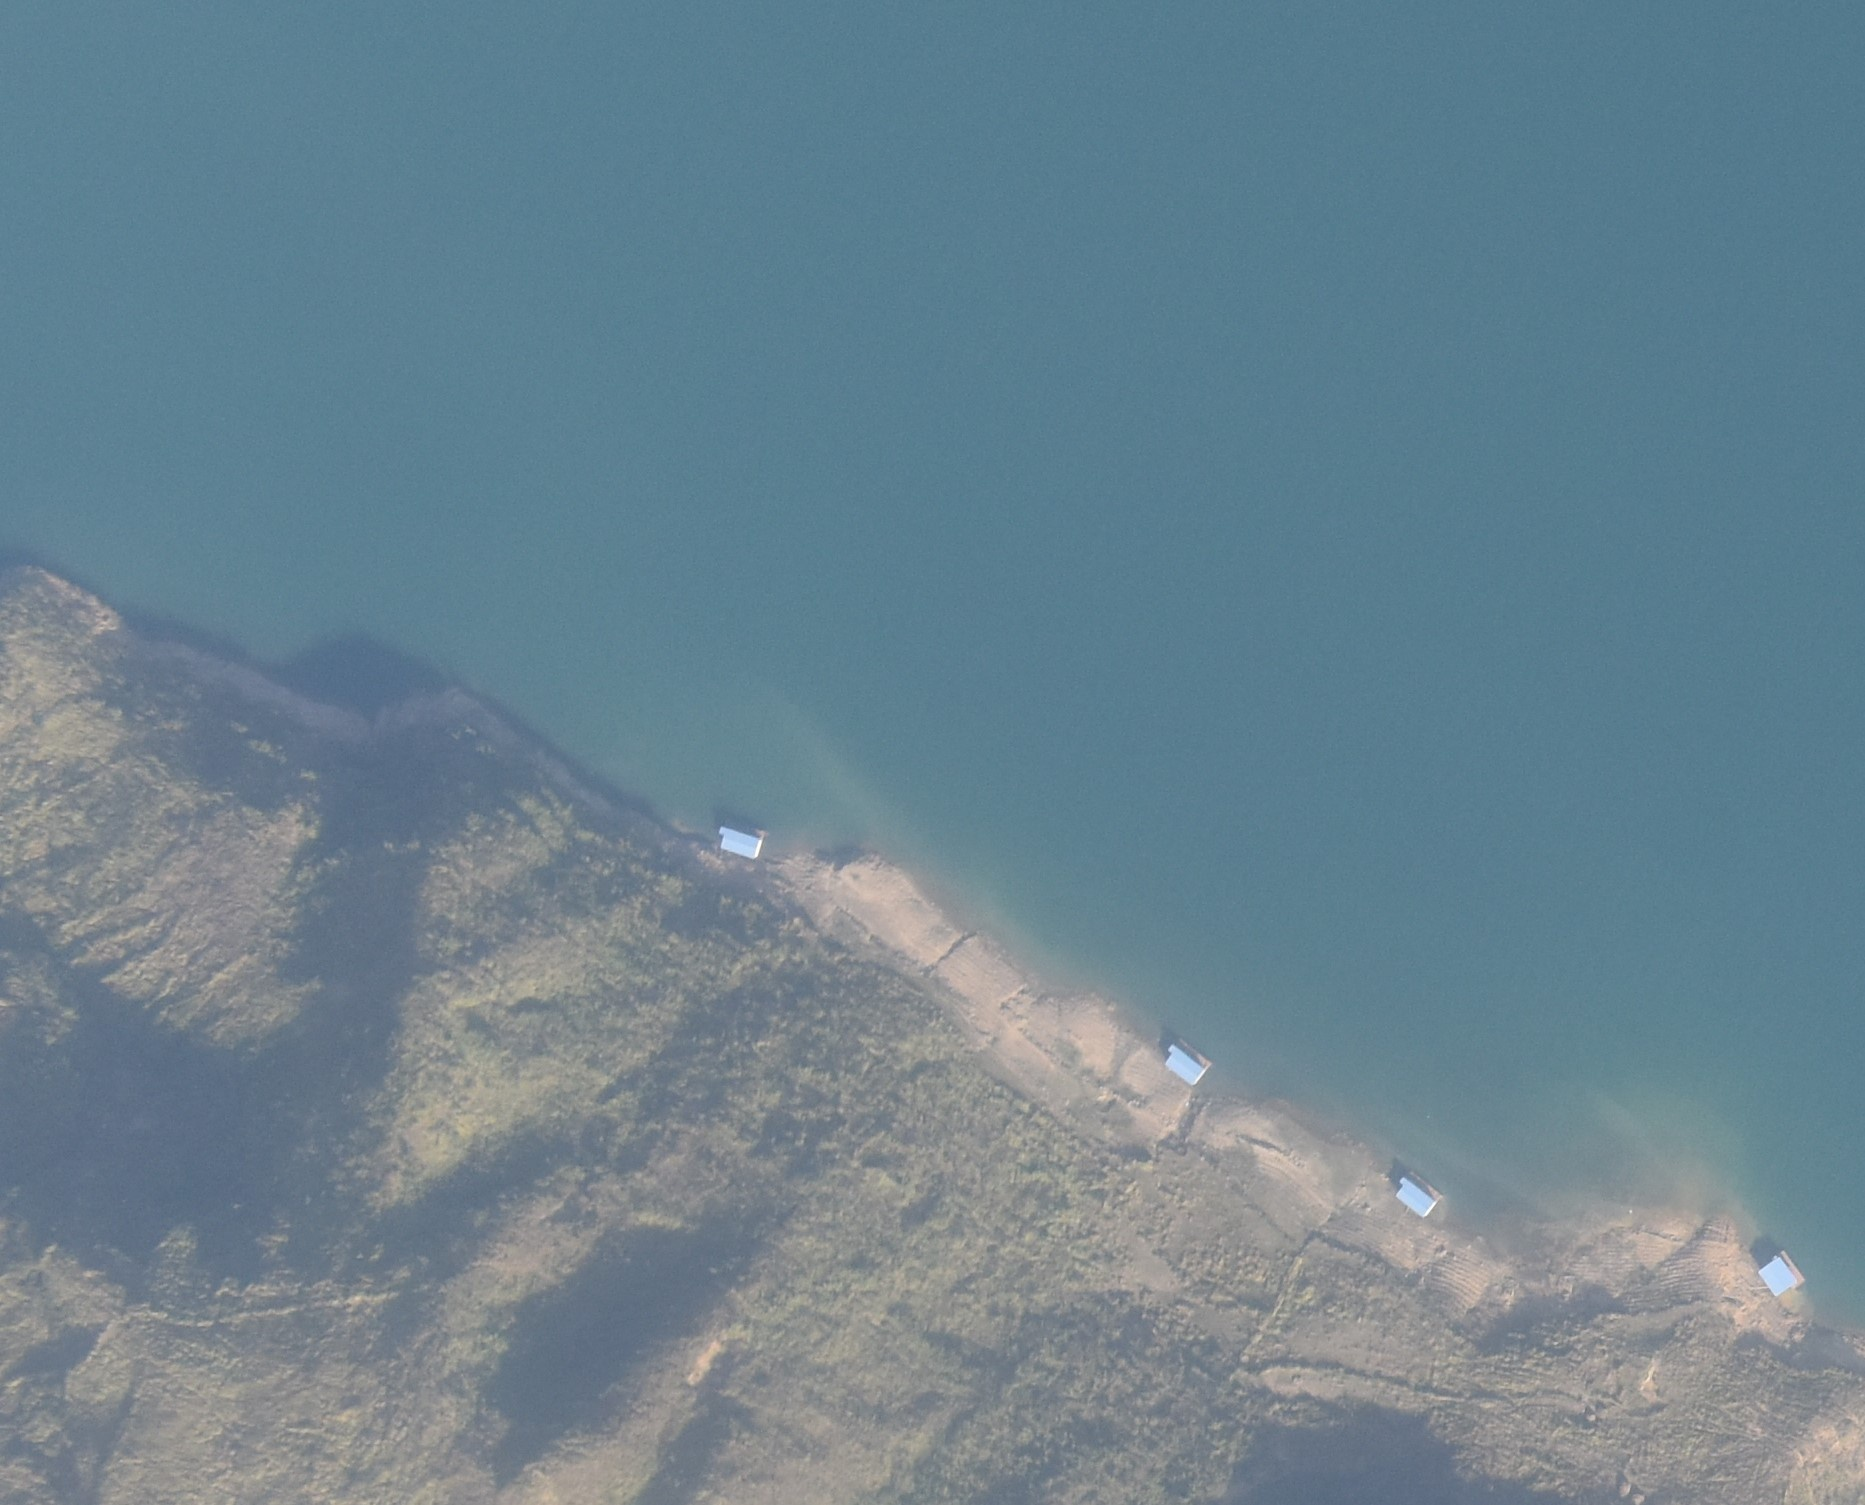prefabricated-house: (1392, 1173, 1439, 1217), (1165, 1043, 1207, 1089), (1758, 1252, 1798, 1299), (714, 826, 760, 863)
